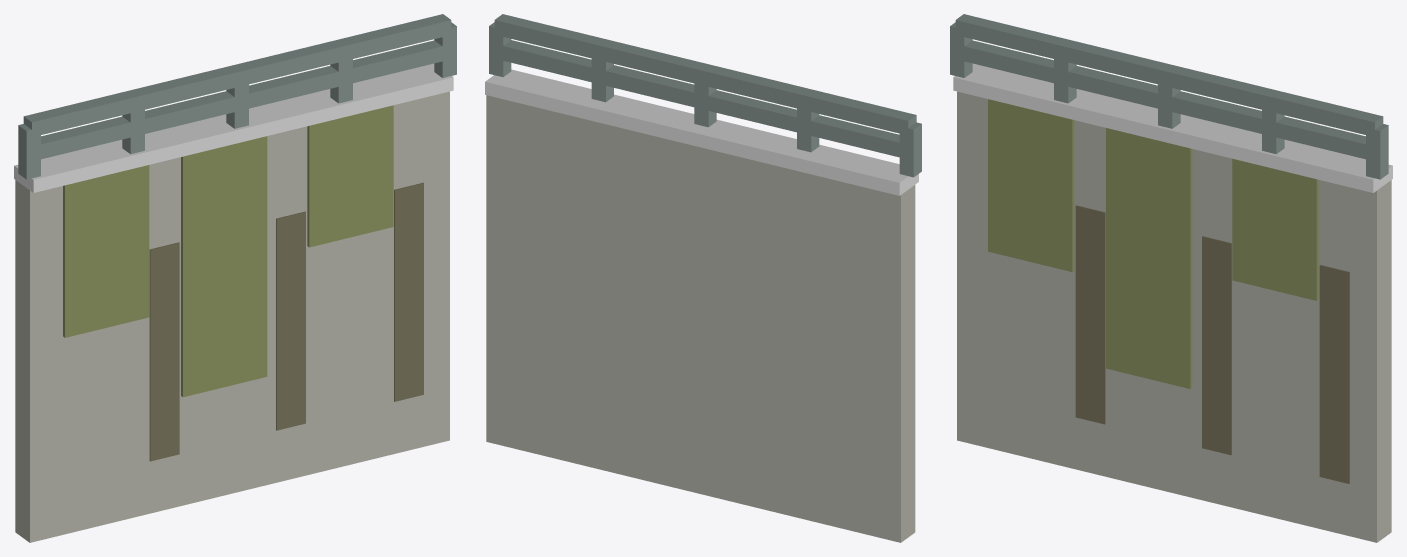
File: SM_MuroTrinchera_Muro_v4_Hiedra_LOD1.fbx
3 views of the same model, side by side, from view 1: azimuth 30°, elevation 25°; view 2: azimuth 150°, elevation 25°; view 3: azimuth 330°, elevation 25° (orthographic).
Parts seen in each view (by area): view 1: SM_muro_trinchera_v4_LOD1; view 2: SM_muro_trinchera_v4_LOD1; view 3: SM_muro_trinchera_v4_LOD1.
Boxes of the visible parts, bbox=[...] form: SM_muro_trinchera_v4_LOD1: bbox=[14, 14, 456, 542]; SM_muro_trinchera_v4_LOD1: bbox=[485, 14, 921, 542]; SM_muro_trinchera_v4_LOD1: bbox=[950, 14, 1392, 542].
Bounding box in the file's own units: 10.22 × 9.57 × 0.8.
